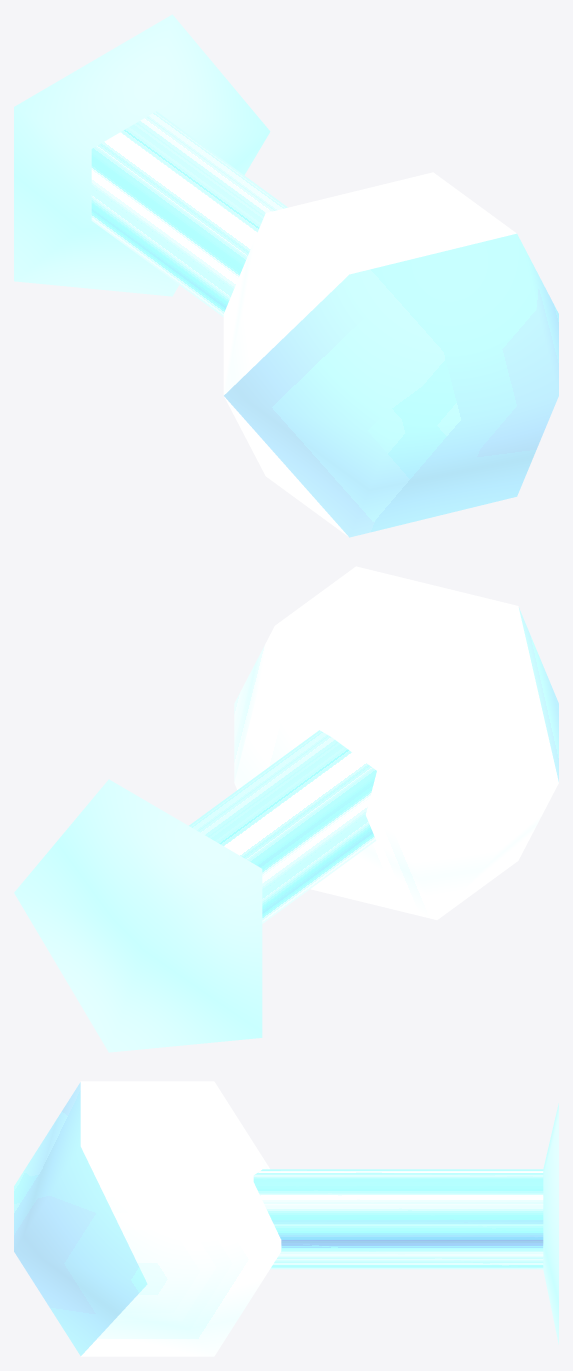
Rendered from bomber_3db.gltf.
3 views of the same model, one above another, from view 1: azimuth 30°, elevation 25°; view 2: azimuth 150°, elevation 25°; view 3: azimuth 270°, elevation 25° (orthographic). The views are drawn at different scales.
Parts seen in each view (by area): view 1: bomber.3db; view 2: bomber.3db; view 3: bomber.3db.
Part boxes in pixels (x1,y1,x2,y2): bomber.3db: (14,14,558,537); bomber.3db: (14,566,558,1052); bomber.3db: (14,1081,558,1356).
Size of the model in its own units: 0.7795 by 0.6271 by 1.38.
Materials: 1 (1 with a texture image).
